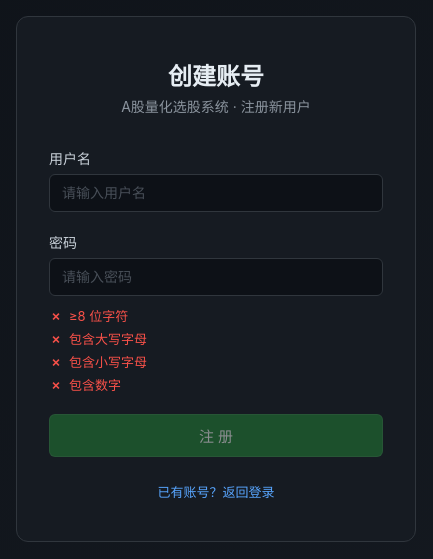
RegisterView › 用户名可用时显示 ✓
Type "available_user" into the field with id "reg-username" at (216, 193), box [49,174,383,212]
Wait 400 ms
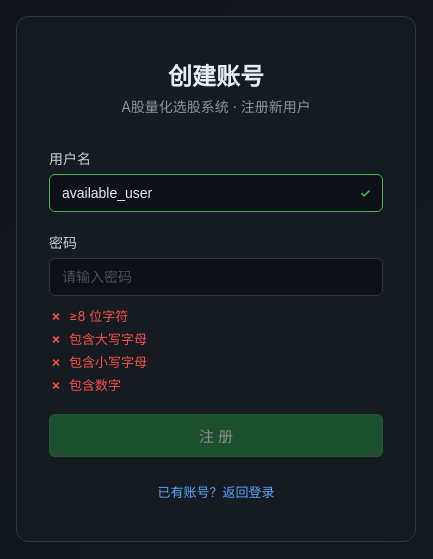
Check: the text with class "input-status" reads "✓", box [360,185,371,201]
